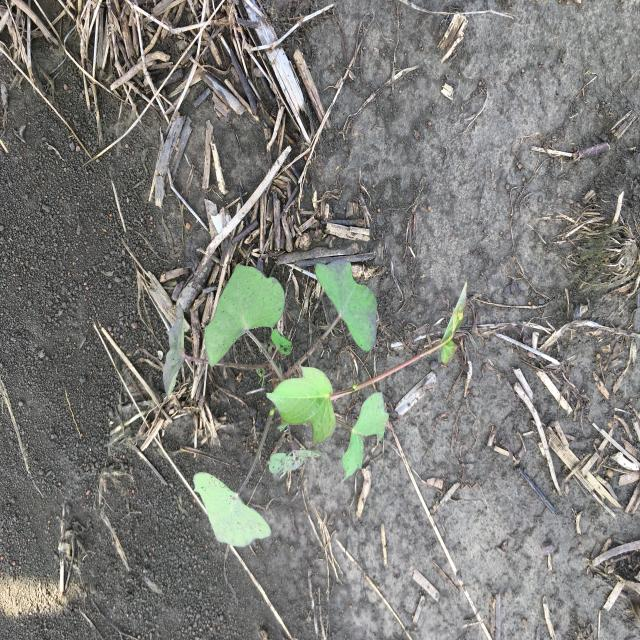MorningGlory: (162, 260, 470, 550)
